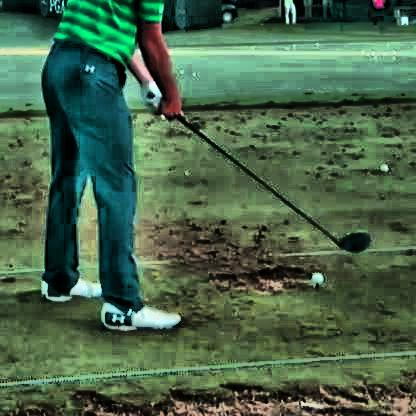golfball: (308, 271, 319, 281)
